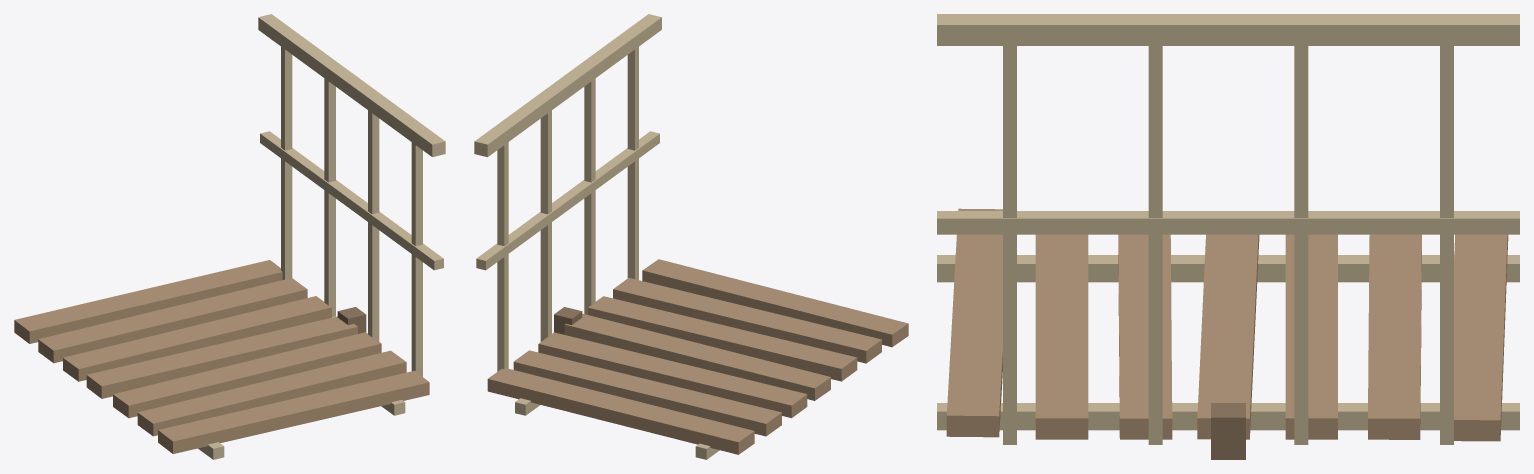
The model's file is bridge-rope-side-r.glb.
The picture shows the model from 3 angles, left to right: view 1: azimuth 30°, elevation 25°; view 2: azimuth 150°, elevation 25°; view 3: azimuth 270°, elevation 25°; orthographic projection. The views are drawn at different scales.
Parts seen in each view (by area): view 1: bridge-rope-side-r; view 2: bridge-rope-side-r; view 3: bridge-rope-side-r.
Boxes of the visible parts, bbox=[...] form: bridge-rope-side-r: bbox=[14, 14, 445, 459]; bridge-rope-side-r: bbox=[474, 14, 908, 459]; bridge-rope-side-r: bbox=[937, 14, 1519, 459].
Bounding box in the file's own units: 0.8911 × 0.83 × 1.
